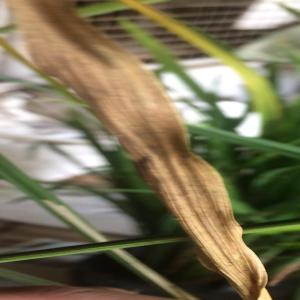Bacterial_Blight: (159, 121, 243, 299)
